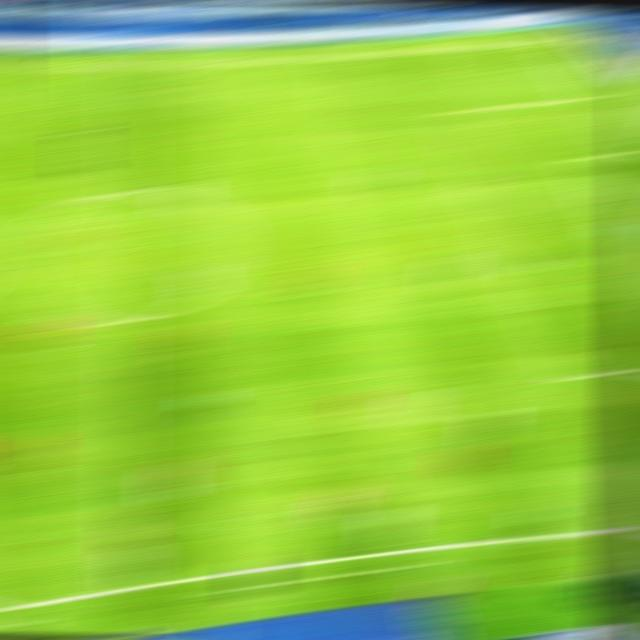bigarea_bottom_inner: (554, 370, 593, 382)
bigarea_top_inner: (435, 107, 470, 116)
bigarea_top_outter: (576, 90, 612, 106)
bottom_arc_area_intersection: (505, 263, 543, 276)
corner: (537, 37, 572, 46)
halfcircle_bottom: (108, 316, 145, 328)
halfcircle_top: (110, 187, 146, 197)
midline_bottom_intersection: (100, 582, 144, 596)
midline_top_intersection: (111, 60, 145, 72)
smallarea_top_inner: (565, 150, 599, 165)
smallarea_top_outter: (613, 146, 640, 157)
top_arc_area_intersection: (463, 172, 500, 183)
